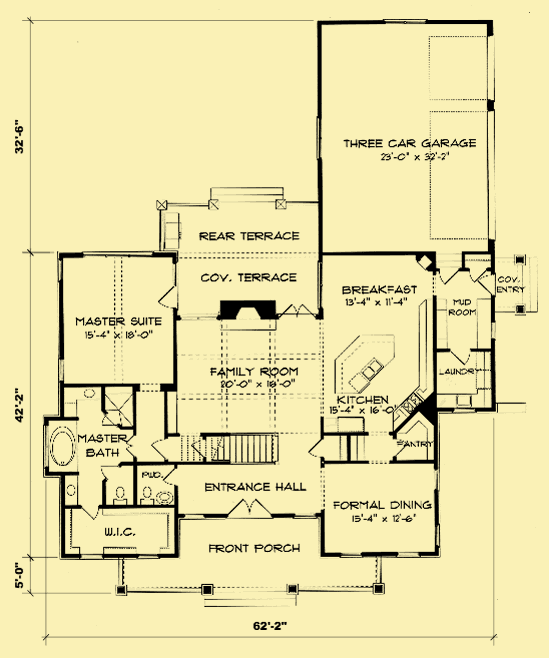kitchen has a twin sink, cooking range and other appliances: (318, 300, 437, 437)
master bathroom has a large bathtub, dual sinks and shower space: (41, 382, 137, 511)
small bathroom has sink and large sink: (134, 463, 178, 510)
